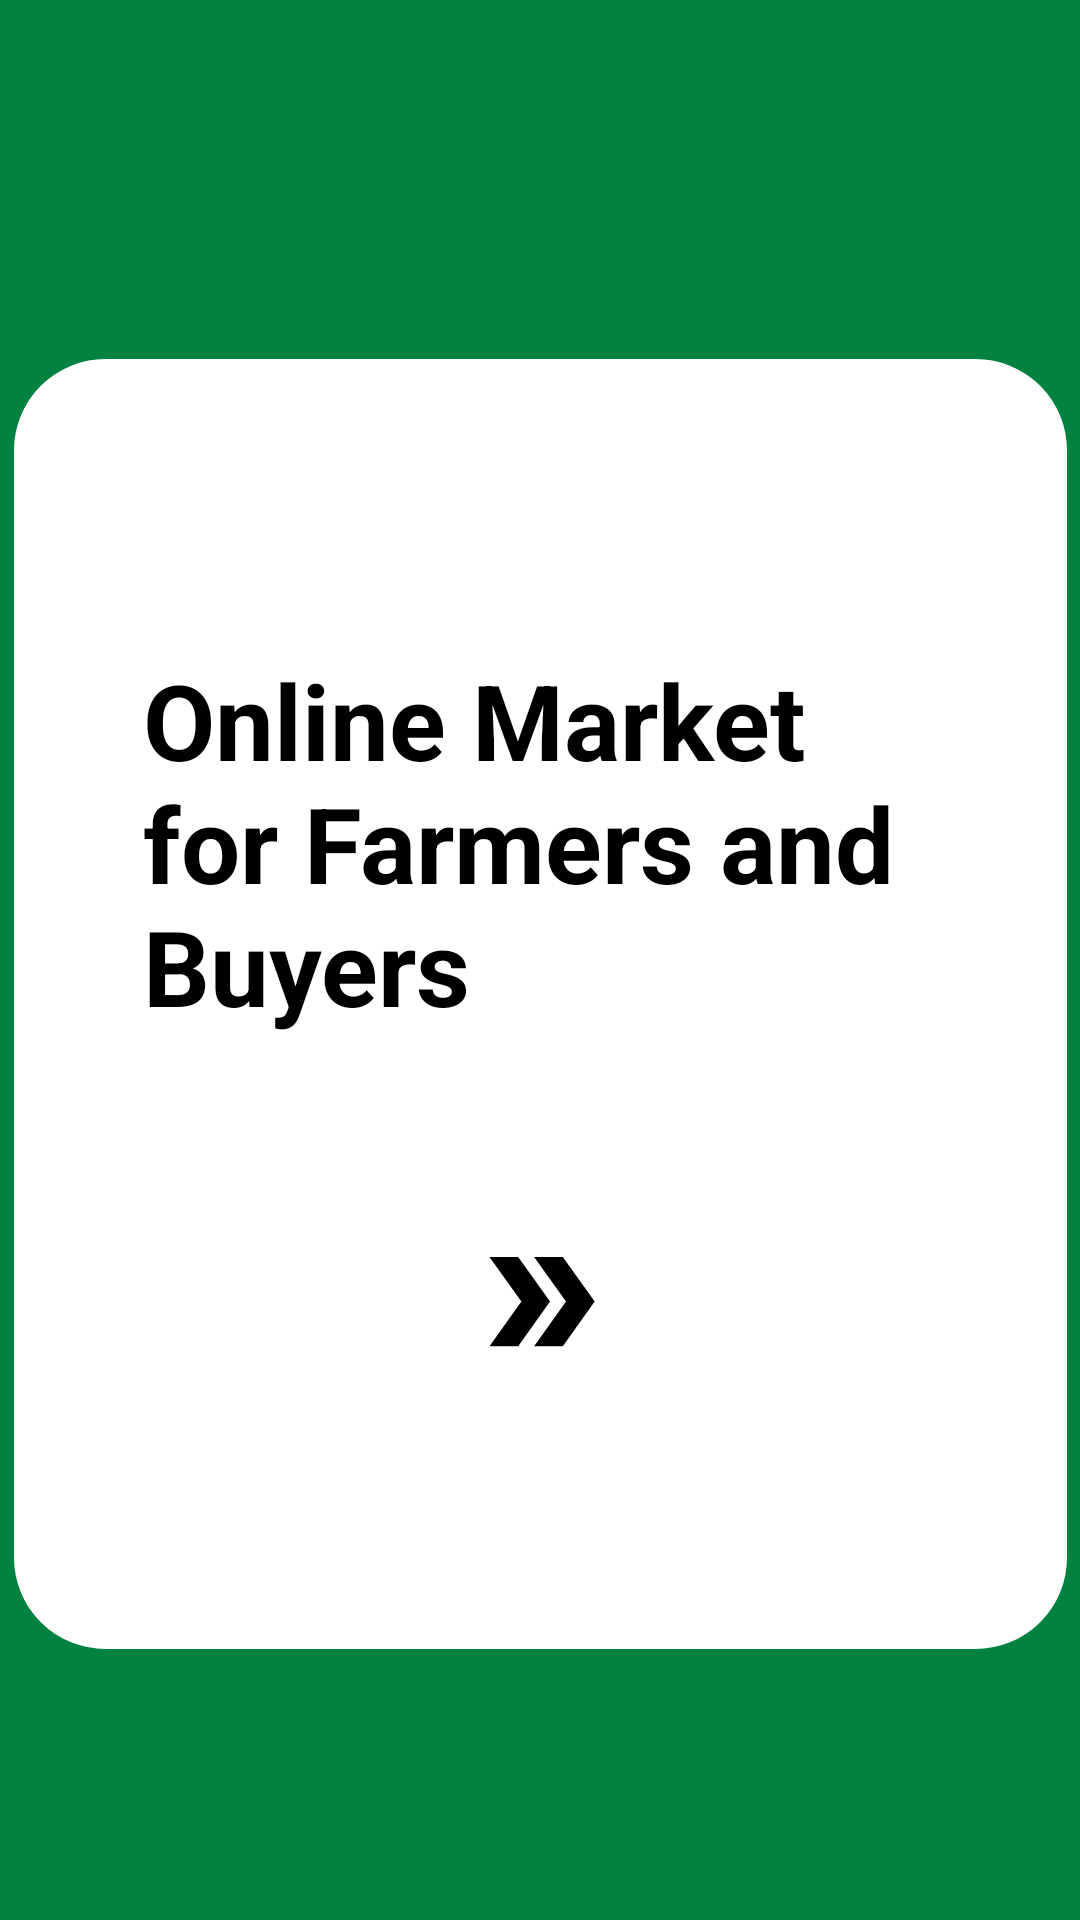

Icons on this 1080*1920 Android screen, each with the point to tap as [x,y]:
double arrow: [542,1302]
